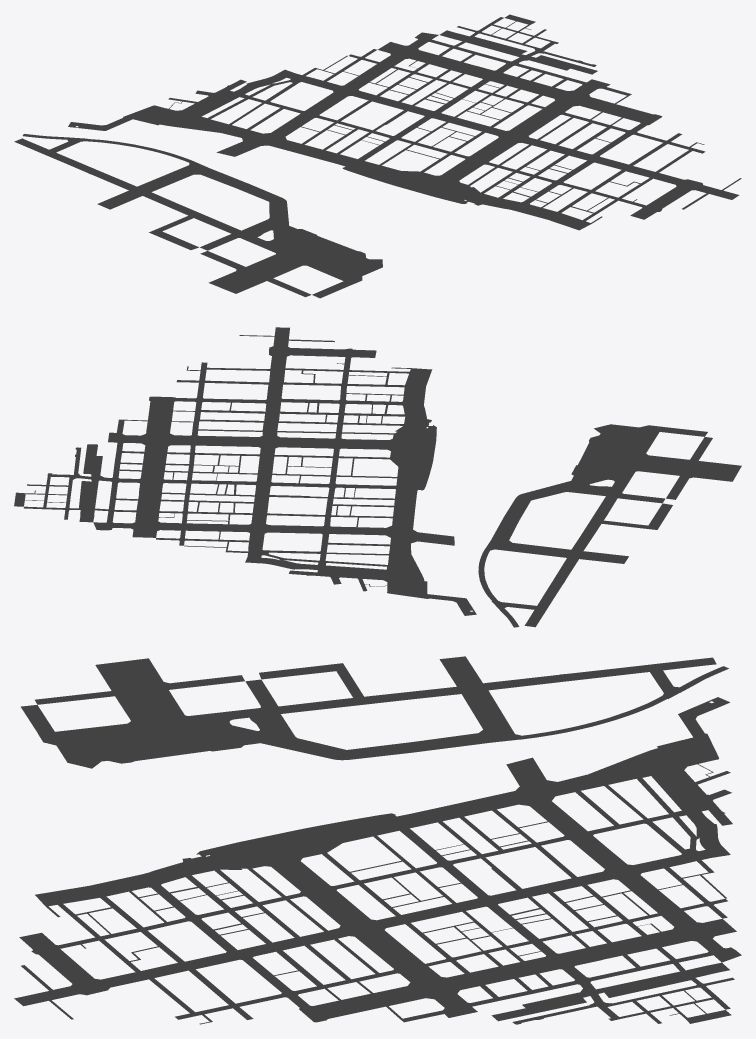
File: 53394611_tran_6668_op.gltf
3 views of the same model, one above another, from view 1: azimuth 30°, elevation 25°; view 2: azimuth 150°, elevation 25°; view 3: azimuth 270°, elevation 25° (orthographic). The views are drawn at different scales.
Visible parts, largest first — view 1: group1; view 2: group1; view 3: group1.
Boxes of the visible parts, x1,y1,x2,y2 form: group1: (14,14,741,298); group1: (14,327,741,627); group1: (14,656,741,1024).
Bounding box in the file's own units: 1147 × 0 × 959.
Materials: 1 (1 with a texture image).
